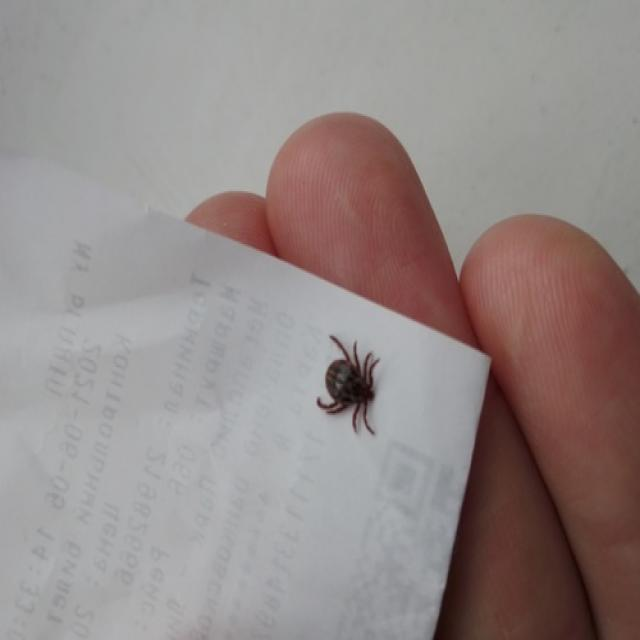Dermacentor Reticulatus-M: (316, 336, 379, 435)
